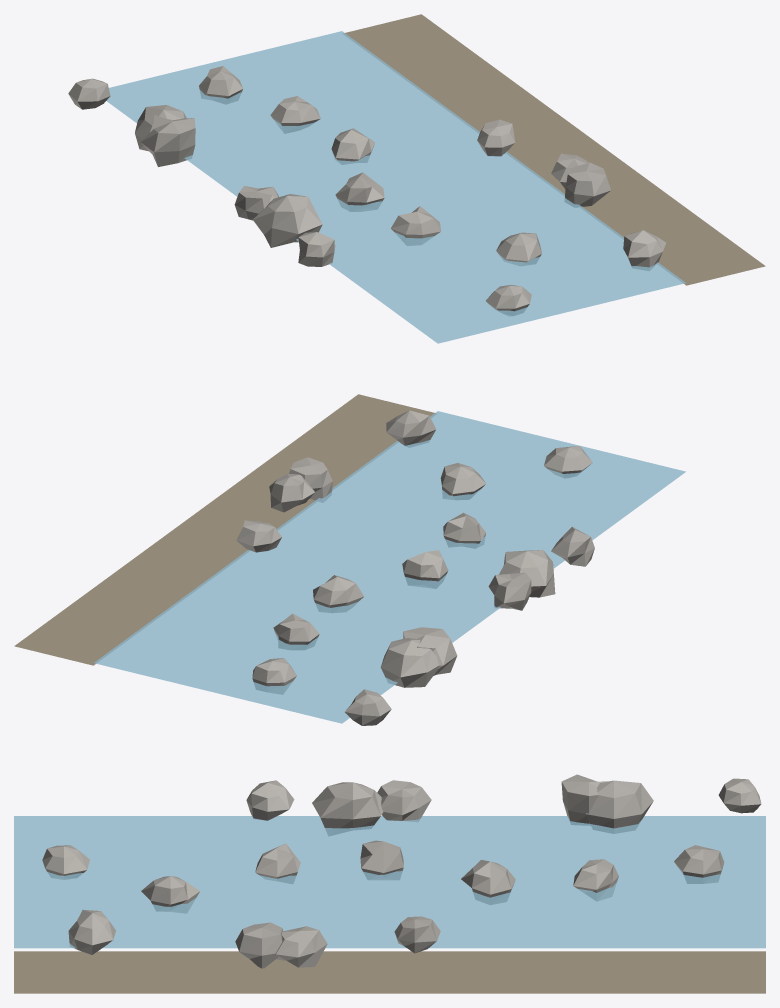
File: stream_stepping_stones.glb
3 views of the same model, one above another, from view 1: azimuth 30°, elevation 25°; view 2: azimuth 150°, elevation 25°; view 3: azimuth 270°, elevation 25° (orthographic). The views are drawn at different scales.
Visible parts, largest first — view 1: stream_stepping_stones; view 2: stream_stepping_stones; view 3: stream_stepping_stones.
Boxes of the visible parts, x1,y1,x2,y2 form: stream_stepping_stones: (68, 14, 765, 343); stream_stepping_stones: (14, 394, 685, 725); stream_stepping_stones: (14, 774, 765, 993).
Size of the model in its own units: 8.2 by 0.9138 by 12.
